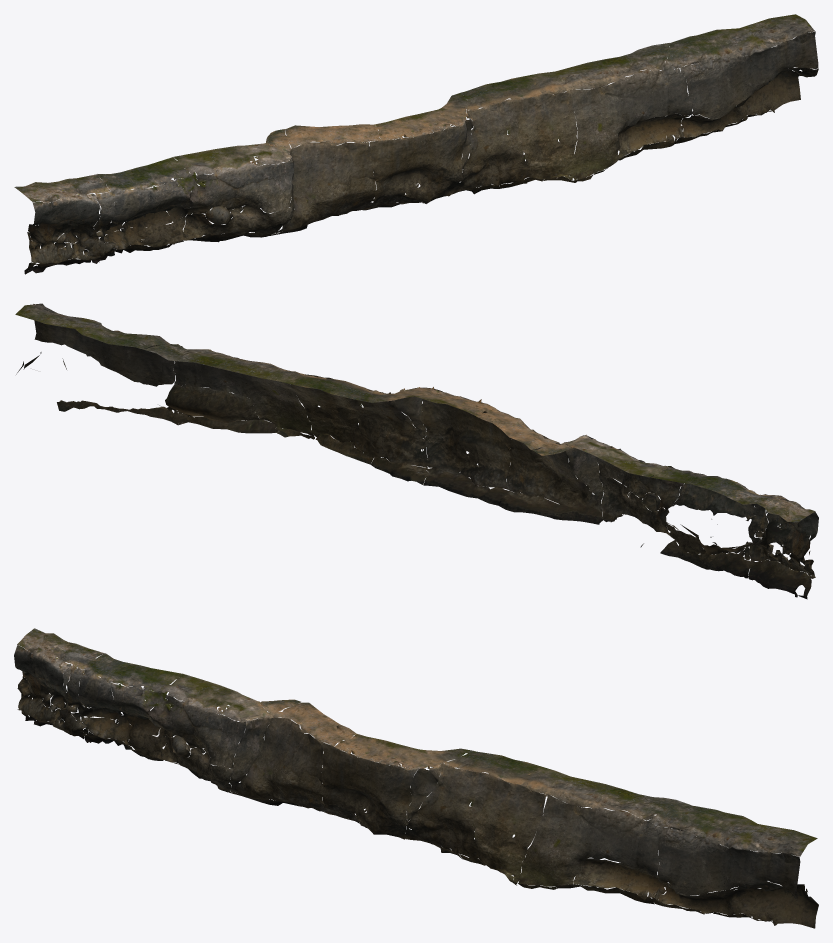
The model's file is coastal_cliff_01_LOD2.fbx.
3 renders of one model, top to bottom at view 1: azimuth 30°, elevation 25°; view 2: azimuth 150°, elevation 25°; view 3: azimuth 330°, elevation 25°, orthographic. The views are drawn at different scales.
Parts seen in each view (by area): view 1: coastal_cliff_01.001; view 2: coastal_cliff_01.001; view 3: coastal_cliff_01.001.
Part boxes in pixels (x1=…): coastal_cliff_01.001: x1=14, y1=14, x2=818, y2=274; coastal_cliff_01.001: x1=15, y1=303, x2=818, y2=599; coastal_cliff_01.001: x1=14, y1=628, x2=818, y2=928.
Size of the model in its own units: 91.93 by 10.26 by 10.99.
1 material, 1 textured.
